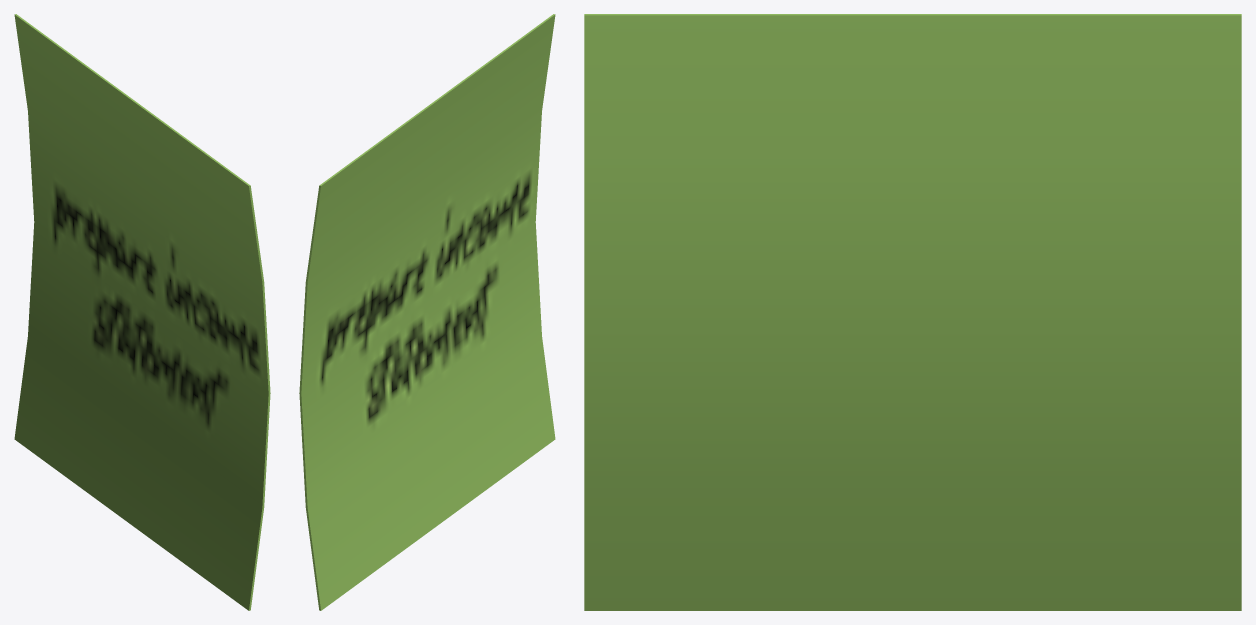
Rendered from Sticker27.fbx.
The picture shows the model from 3 angles, left to right: view 1: azimuth 30°, elevation 25°; view 2: azimuth 150°, elevation 25°; view 3: azimuth 270°, elevation 25°; orthographic projection. The views are drawn at different scales.
Parts seen in each view (by area): view 1: Sticker27; view 2: Sticker27; view 3: Sticker27.
Part boxes in pixels (box(x1,y1,x2,y2)): Sticker27: box(14, 14, 270, 610); Sticker27: box(299, 14, 555, 610); Sticker27: box(584, 14, 1241, 610).
Size of the model in its own units: 0.004 by 0.075 by 0.075.
